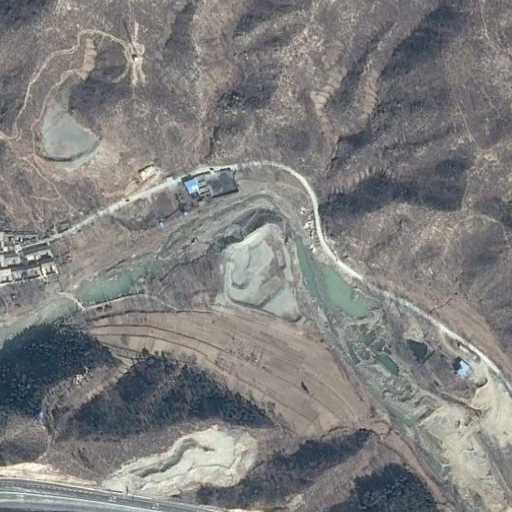tp: (226, 222, 307, 328)
